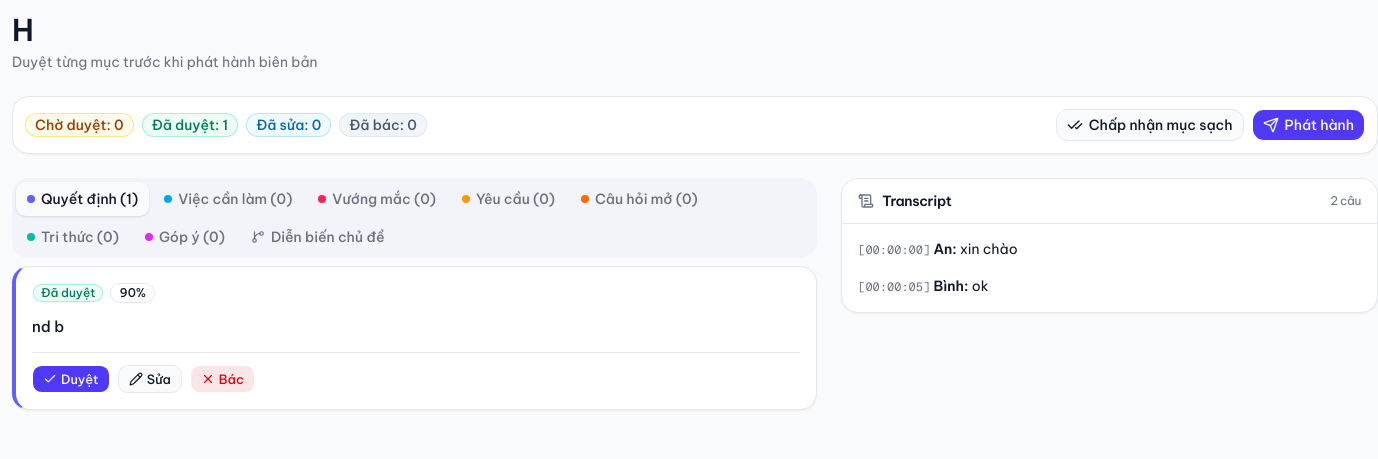
Test case: publish 409 message is surfaced
Expected: the tab "Quyết định (1)" is shown, x1=16 y1=182 x2=149 y2=216
Click the button "Phát hành": (1308, 125) x1=1252 y1=109 x2=1365 y2=141
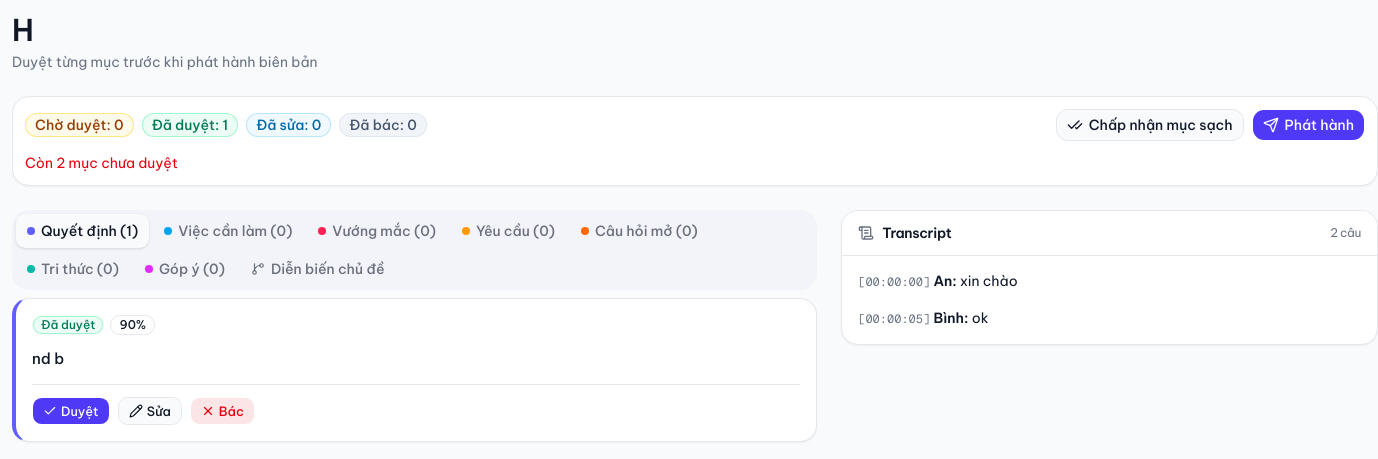
Now the text "Còn 2 mục chưa duyệt" is shown, box x1=25 y1=154 x2=178 y2=172
